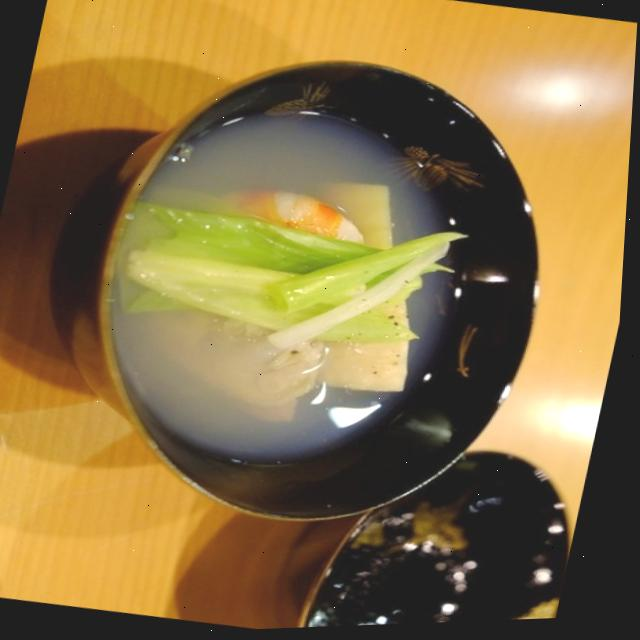汤锅炖物: (45, 21, 599, 569)
